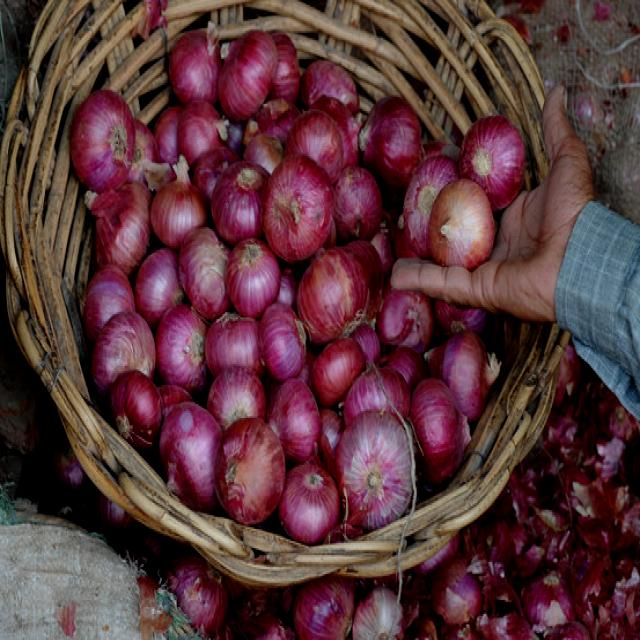onion: (332, 412, 413, 519), (258, 168, 338, 264), (216, 417, 290, 519), (291, 241, 367, 335), (67, 85, 136, 188), (156, 397, 223, 503), (459, 124, 532, 214), (354, 96, 422, 184), (428, 185, 496, 272), (220, 21, 278, 118), (280, 456, 338, 552), (164, 16, 220, 101), (222, 236, 284, 312), (153, 302, 205, 384), (147, 169, 205, 240), (260, 302, 312, 378), (84, 258, 134, 334), (207, 313, 264, 373)
